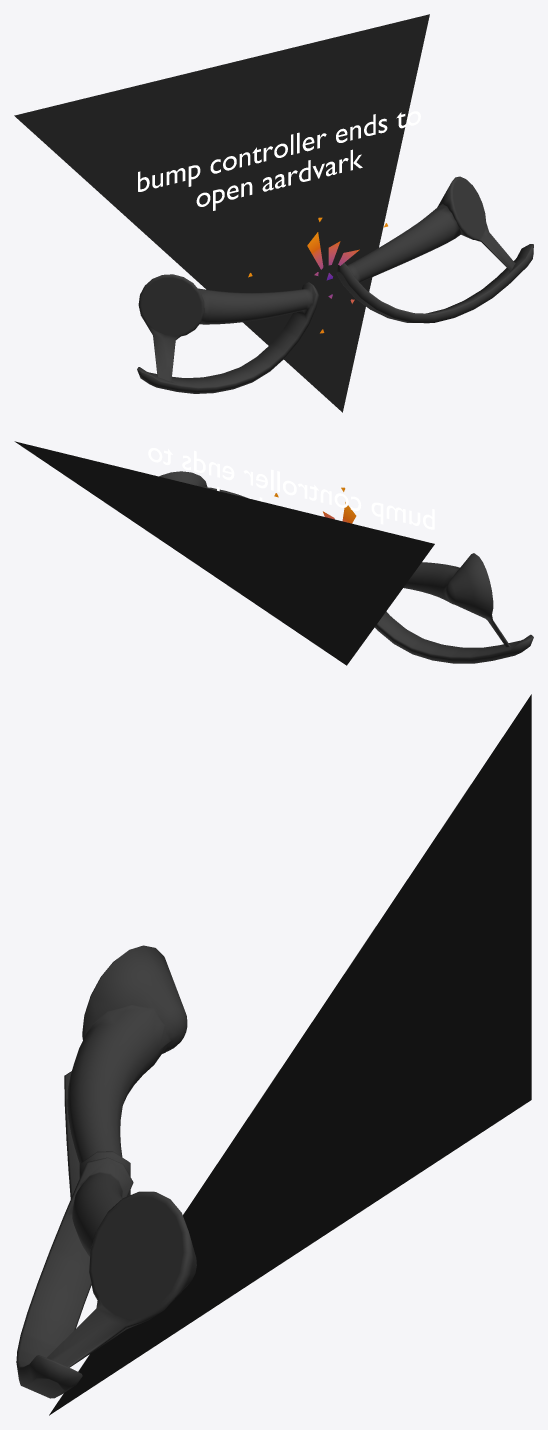
File: controller_Infographic.glb
3 views of the same model, one above another, from view 1: azimuth 30°, elevation 25°; view 2: azimuth 150°, elevation 25°; view 3: azimuth 270°, elevation 25° (orthographic). The views are drawn at different scales.
Visible parts, largest first — view 1: Sphere.001; view 2: Sphere.001; view 3: Sphere.001.
Boxes of the visible parts, box(x1,y1,x2,y2) form: Sphere.001: box(14, 14, 533, 412); Sphere.001: box(14, 441, 533, 665); Sphere.001: box(16, 694, 531, 1415).
Size of the model in its own units: 3.65 by 2.18 by 1.96.
4 materials, 1 textured.
